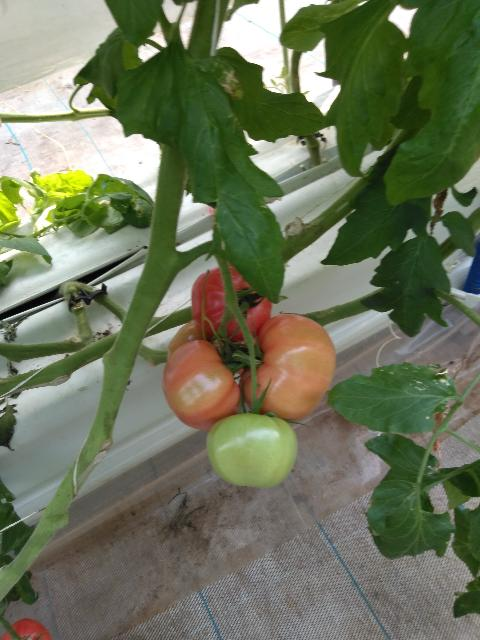b_fully_ripened: (191, 262, 272, 343), (1, 618, 52, 640)
b_green: (207, 413, 297, 489)
b_half_ripened: (238, 313, 337, 425), (162, 339, 241, 430), (166, 317, 244, 375)
